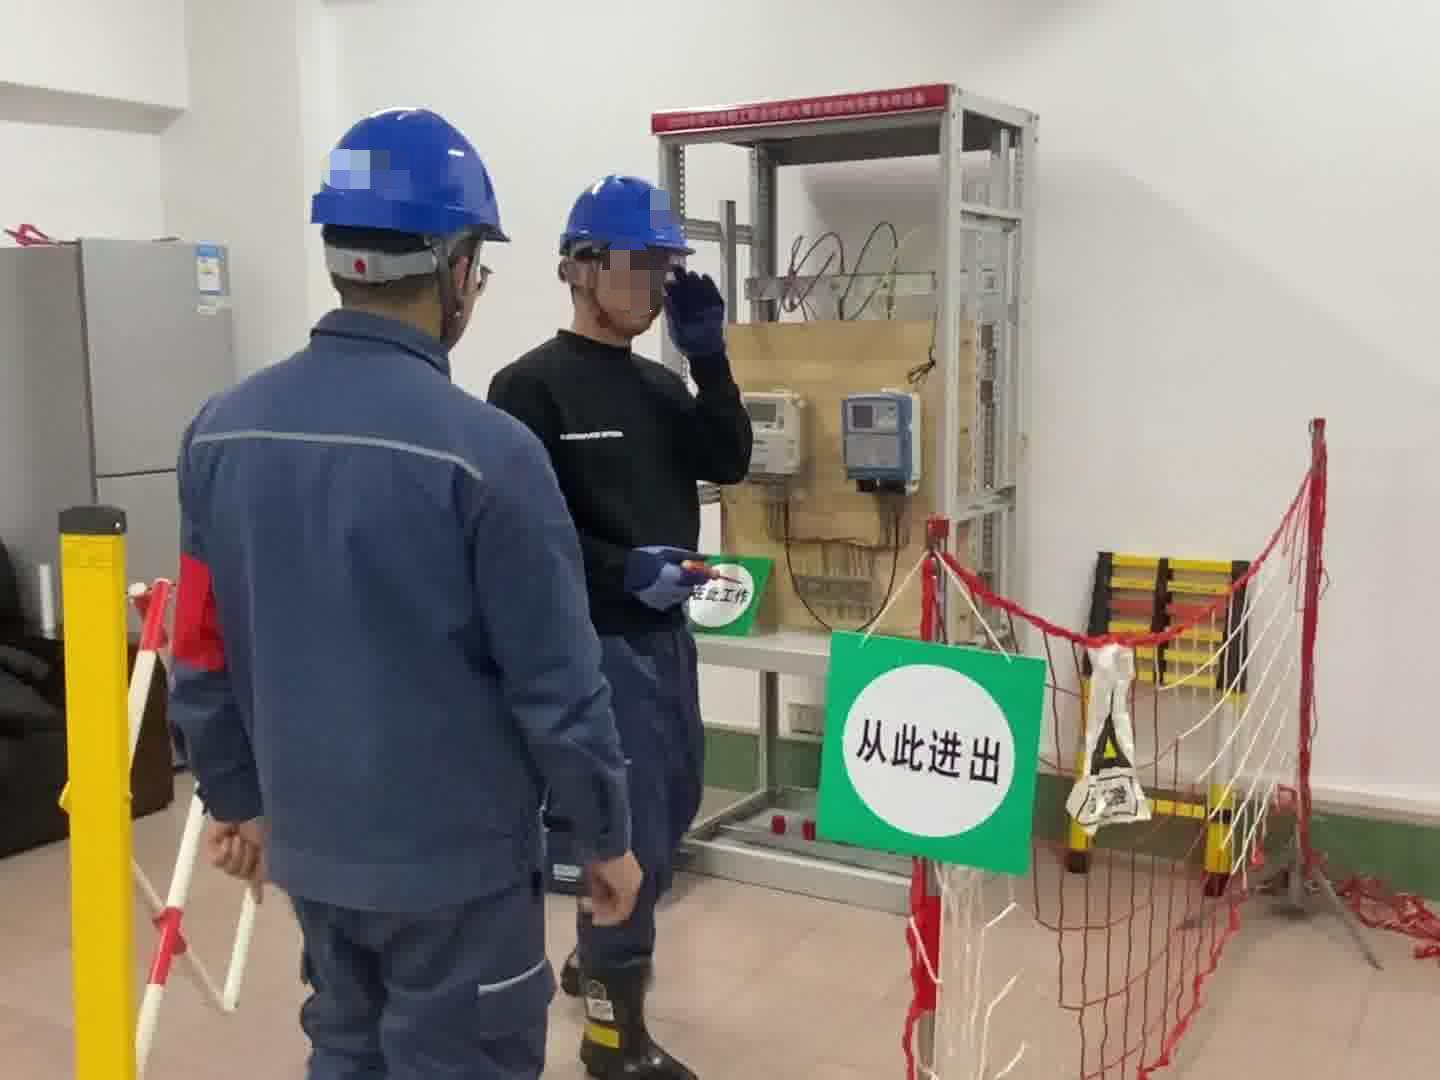halt: (307, 108, 517, 351), (554, 176, 694, 346)
inear: (434, 243, 483, 336), (565, 248, 618, 317)
